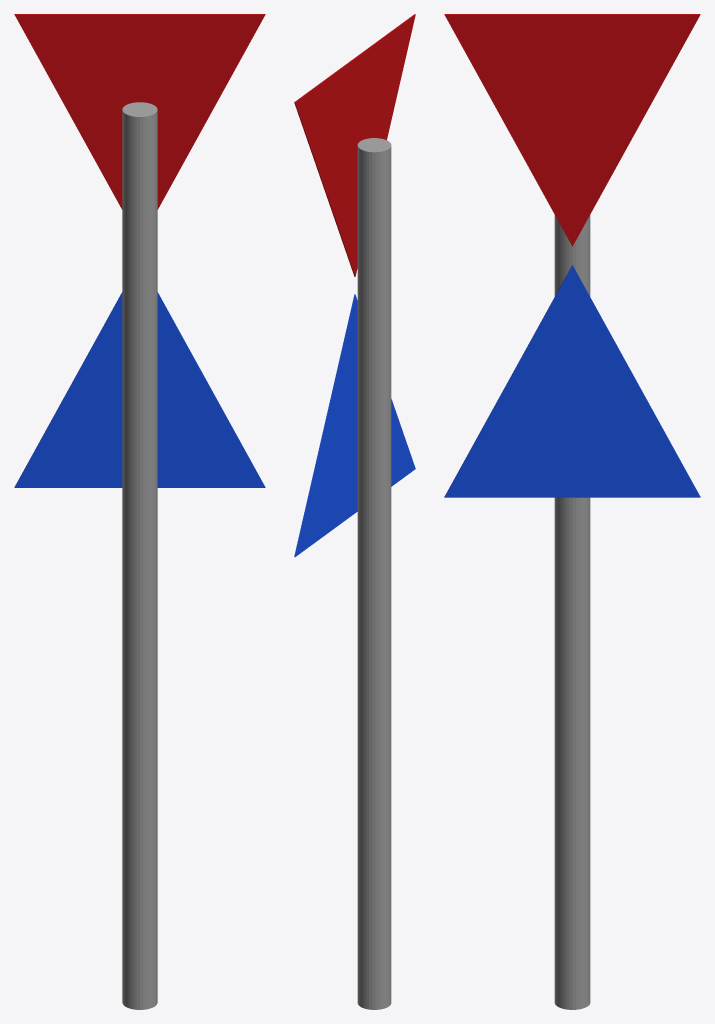
Rendered from (Multi)StreetSign3WIP.fbx.
3 views of the same model, side by side, from view 1: azimuth 90°, elevation 25°; view 2: azimuth 150°, elevation 25°; view 3: azimuth 270°, elevation 25° (orthographic). The views are drawn at different scales.
Visible parts, largest first — view 1: Cube.001; view 2: Cube.001; view 3: Cube.001.
Boxes of the visible parts, x1,y1,x2,y2 form: Cube.001: (14,14,265,1009); Cube.001: (294,14,415,1009); Cube.001: (444,14,700,1009).
Size of the model in its own units: 14.1 by 365 by 84.99.
